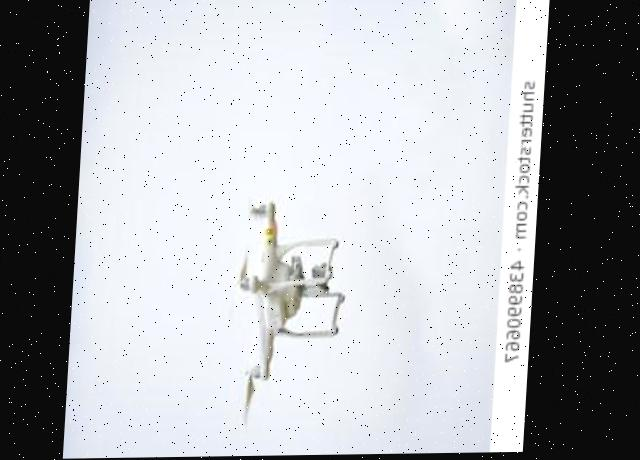drone: (223, 185, 372, 434)
